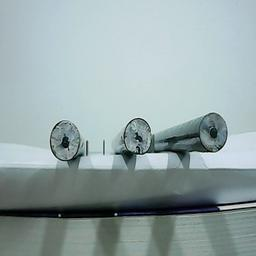pen: (50, 121, 80, 161), (198, 112, 228, 152), (123, 116, 152, 153)
